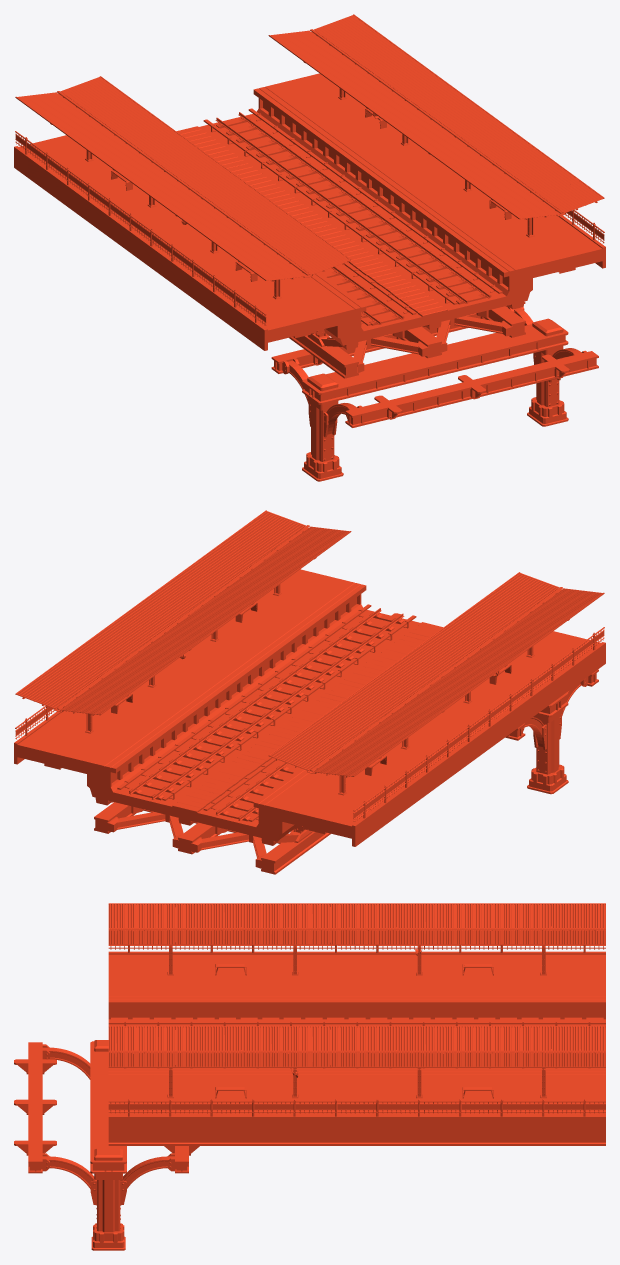
Rendered from SM_Rails_Overground_Station_B_City.fbx.
3 views of the same model, one above another, from view 1: azimuth 30°, elevation 25°; view 2: azimuth 150°, elevation 25°; view 3: azimuth 270°, elevation 25° (orthographic).
Parts seen in each view (by area): view 1: SM_Rails_Overground_Station_B_City; view 2: SM_Rails_Overground_Station_B_City; view 3: SM_Rails_Overground_Station_B_City.
Part boxes in pixels (left/top/right/bottom): SM_Rails_Overground_Station_B_City: left=14, top=14, right=605, bottom=481; SM_Rails_Overground_Station_B_City: left=14, top=510, right=605, bottom=874; SM_Rails_Overground_Station_B_City: left=14, top=903, right=605, bottom=1250.
Size of the model in its own units: 23.6 by 13.62 by 35.72.
